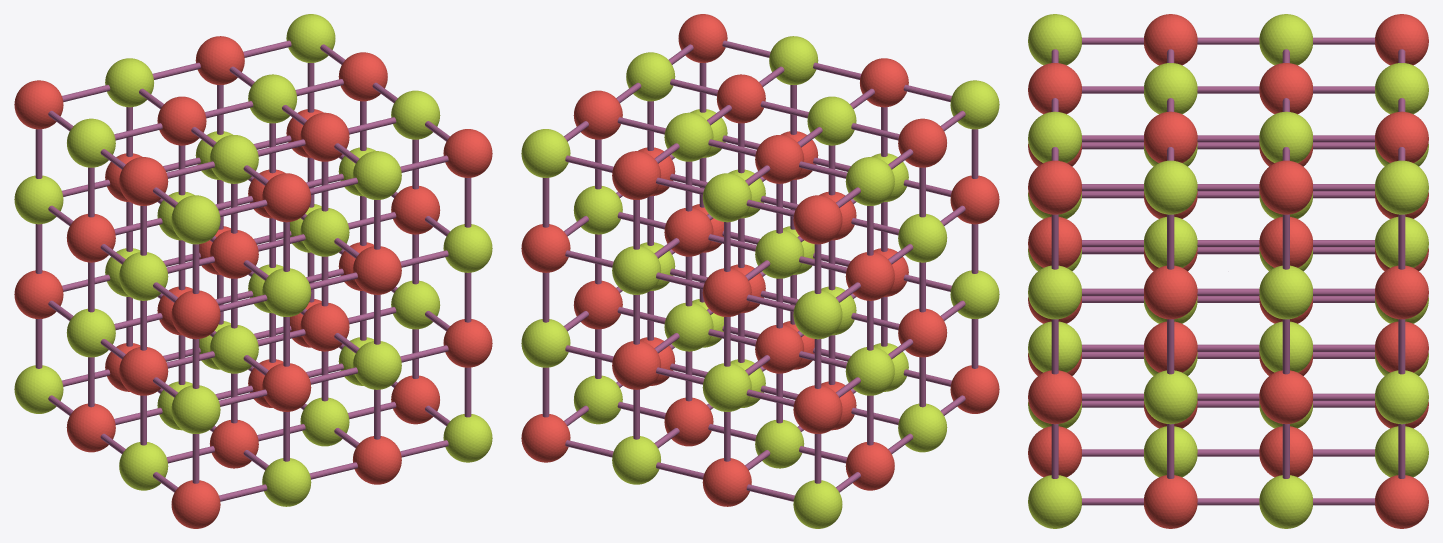
The model's file is calcium_oxide.glb.
3 views of the same model, side by side, from view 1: azimuth 30°, elevation 25°; view 2: azimuth 150°, elevation 25°; view 3: azimuth 270°, elevation 25° (orthographic). The views are drawn at different scales.
Parts seen in each view (by area): view 1: Ca_0_3_3, Ca_0_1_3, O_0_2_3, O_0_0_3, O_3_3_3, O_1_3_3, Ca_2_3_3, Ca_3_2_3, O_3_1_3, Ca_3_0_3, O_2_0_3, O_2_2_3 (+41 smaller); view 2: O_0_3_0, Ca_0_2_0, O_0_1_0, Ca_0_0_0, Ca_3_3_0, Ca_1_3_0, O_2_3_0, O_3_2_0, Ca_3_1_0, O_3_0_0, Ca_2_0_0, Ca_2_2_0 (+41 smaller); view 3: Ca_3_3_2, O_3_3_1, Ca_3_3_0, O_3_3_3, Ca_3_2_3, O_3_2_0, Ca_3_1_0, O_3_1_3, Ca_3_2_1, O_3_2_2, Ca_3_0_1, Ca_3_0_3 (+67 smaller).
Part boxes in pixels (x1=…): Ca_0_3_3: x1=171, y1=195, x2=220, y2=244; Ca_0_1_3: x1=171, y1=385, x2=220, y2=433; O_0_2_3: x1=171, y1=290, x2=220, y2=339; O_0_0_3: x1=171, y1=480, x2=220, y2=528; O_3_3_3: x1=443, y1=129, x2=492, y2=177; O_1_3_3: x1=262, y1=173, x2=311, y2=222; Ca_2_3_3: x1=352, y1=151, x2=401, y2=199; Ca_3_2_3: x1=443, y1=224, x2=492, y2=272; O_3_1_3: x1=443, y1=319, x2=492, y2=367; Ca_3_0_3: x1=443, y1=414, x2=492, y2=462; O_2_0_3: x1=353, y1=436, x2=401, y2=484; O_2_2_3: x1=352, y1=246, x2=401, y2=294; O_0_3_0: x1=793, y1=195, x2=842, y2=244; Ca_0_2_0: x1=793, y1=290, x2=842, y2=339; O_0_1_0: x1=793, y1=385, x2=842, y2=433; Ca_0_0_0: x1=793, y1=480, x2=842, y2=528; Ca_3_3_0: x1=521, y1=129, x2=570, y2=177; Ca_1_3_0: x1=702, y1=173, x2=751, y2=222; O_2_3_0: x1=612, y1=151, x2=661, y2=199; O_3_2_0: x1=521, y1=224, x2=570, y2=272; Ca_3_1_0: x1=521, y1=319, x2=570, y2=367; O_3_0_0: x1=521, y1=414, x2=570, y2=462; Ca_2_0_0: x1=612, y1=436, x2=660, y2=484; Ca_2_2_0: x1=612, y1=246, x2=661, y2=294; Ca_3_3_2: x1=1144, y1=160, x2=1197, y2=214; O_3_3_1: x1=1259, y1=160, x2=1312, y2=214; Ca_3_3_0: x1=1375, y1=160, x2=1428, y2=214; O_3_3_3: x1=1028, y1=160, x2=1081, y2=214; Ca_3_2_3: x1=1028, y1=265, x2=1081, y2=319; O_3_2_0: x1=1375, y1=265, x2=1428, y2=319; Ca_3_1_0: x1=1375, y1=370, x2=1428, y2=424; O_3_1_3: x1=1028, y1=370, x2=1081, y2=424; Ca_3_2_1: x1=1259, y1=265, x2=1312, y2=319; O_3_2_2: x1=1144, y1=265, x2=1197, y2=319; Ca_3_0_1: x1=1259, y1=475, x2=1312, y2=528; Ca_3_0_3: x1=1028, y1=475, x2=1081, y2=528.
Bounding box in the file's own units: 2.52 × 2.52 × 2.52.
